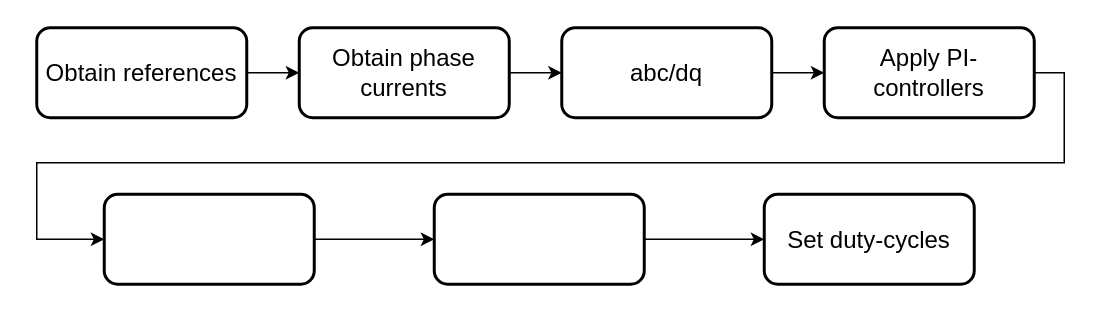
Image size: 1103x311. Some labels were removed from this diagram. Each missing label, with the centre of its shape:
dq/ αβ: the point at 208,238
Run SVM: the point at 538,238
